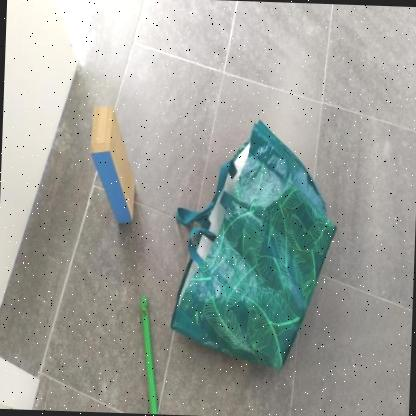bag: (160, 106, 349, 382)
